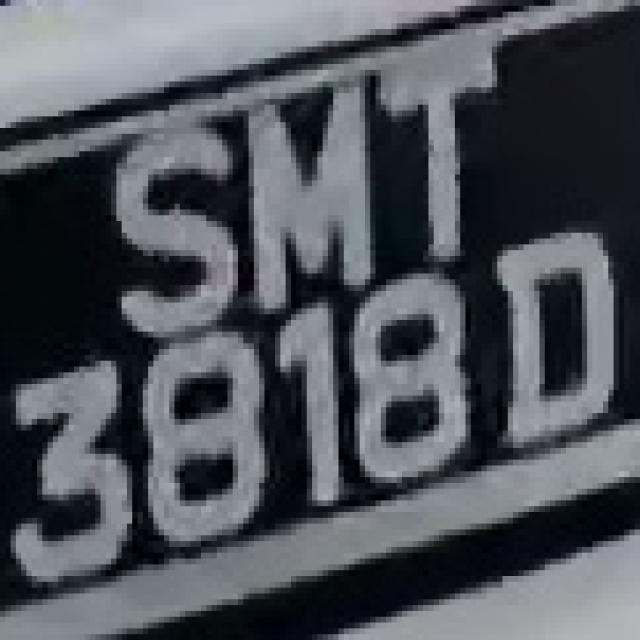1: (270, 285, 365, 524)
3: (0, 349, 148, 594)
8: (116, 308, 275, 576), (333, 280, 492, 500)
D: (492, 221, 619, 460)
M: (228, 64, 386, 297)
S: (101, 99, 238, 343)
T: (365, 29, 529, 250)
